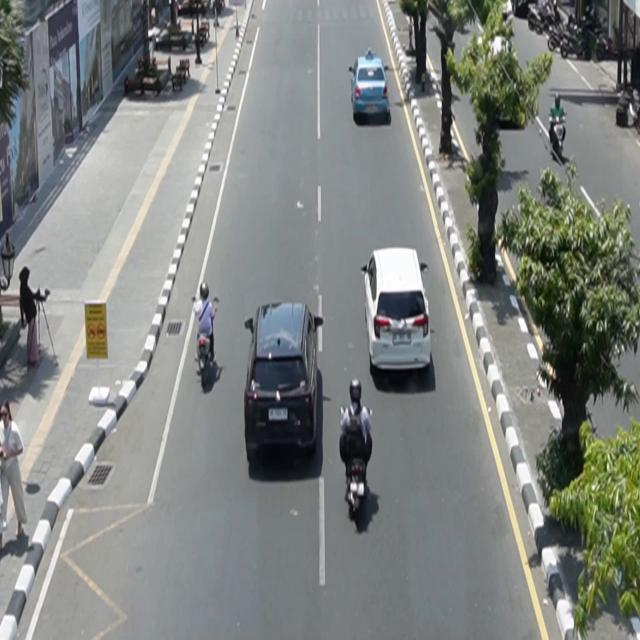car: (244, 301, 325, 464), (361, 247, 433, 375), (349, 50, 392, 123)
